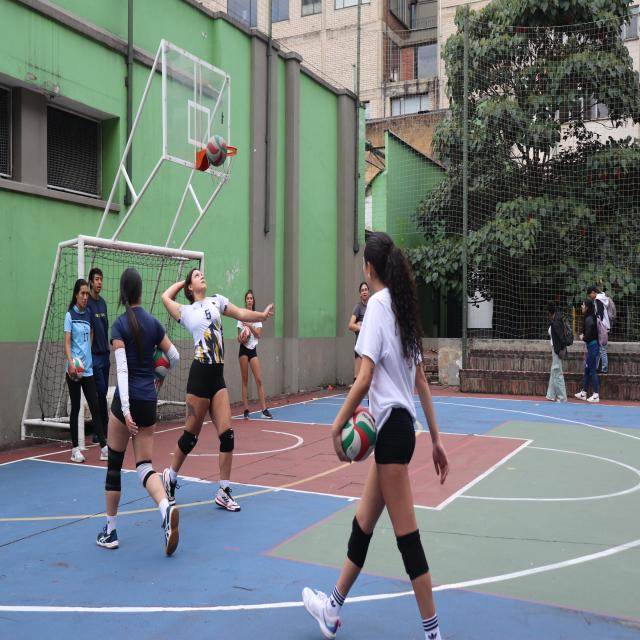volleyball: (341, 406, 377, 462), (206, 134, 227, 167), (153, 344, 170, 380), (68, 357, 84, 381), (240, 326, 251, 339)
